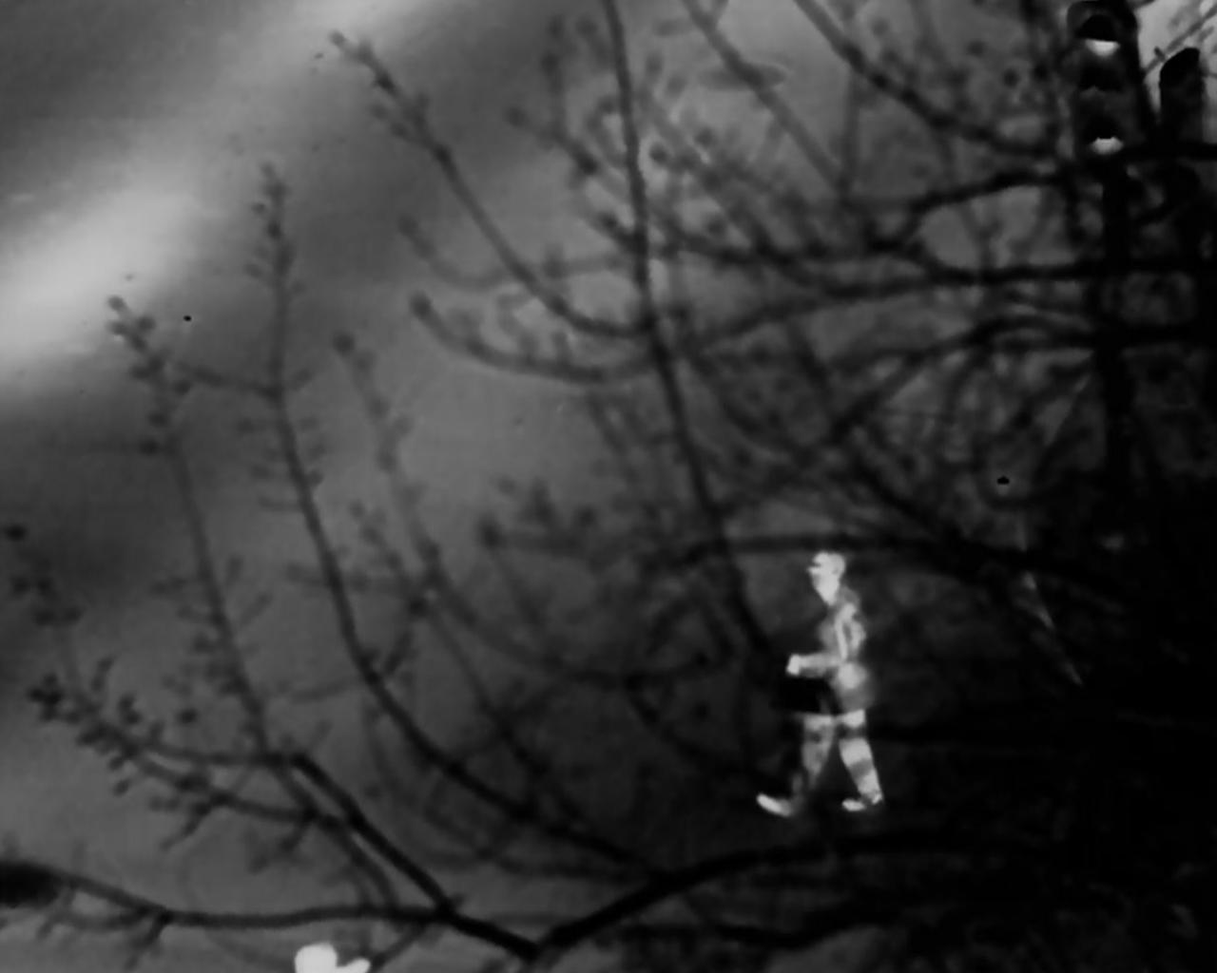person: (760, 549, 882, 820)
